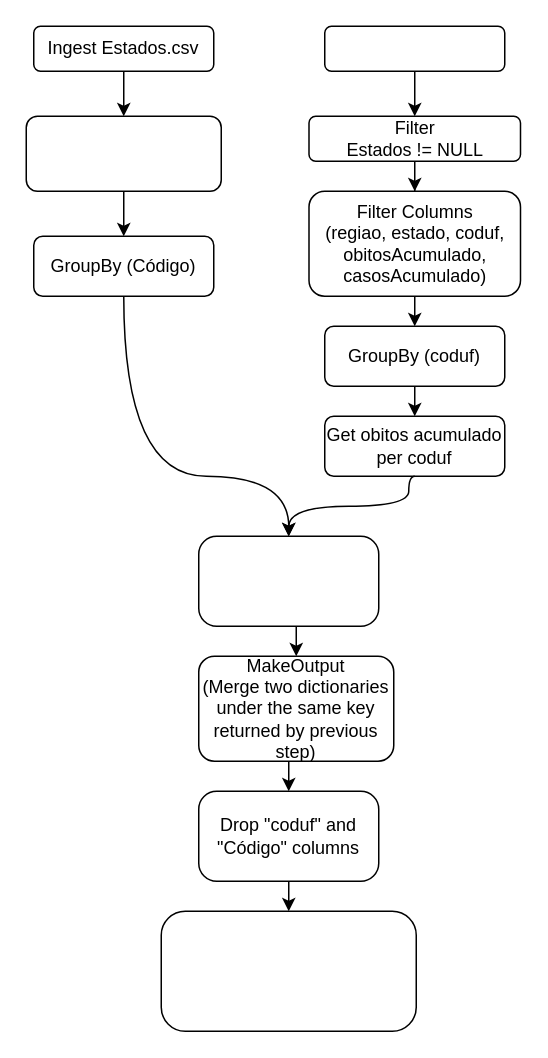
Some shapes in this 548 by 1058 pixel diagram are drawn without their labels. The shapes that lost their labels are listed below. From the top down, each one's centre as x and y in pixels, then its label:
pixel 414 48: Ingest HIST_PAINEL.csv
pixel 123 153: Filter Columns (Governador, UF, Código)
pixel 288 580: CoGroupByKey()
pixel 288 970: Rename Columns {'Governador [2019]': 'Governador', 'UF [-]': UF...}
